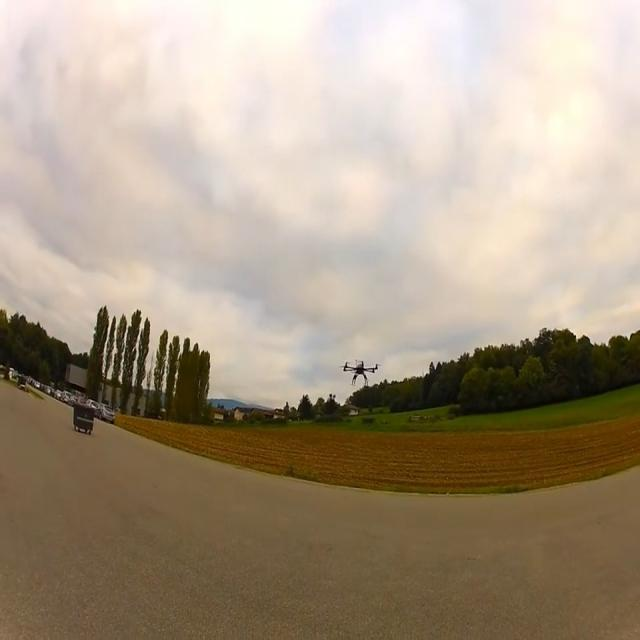drone: (341, 358, 379, 386)
